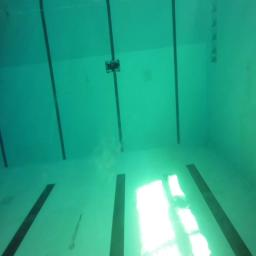front: (104, 59, 120, 72)
